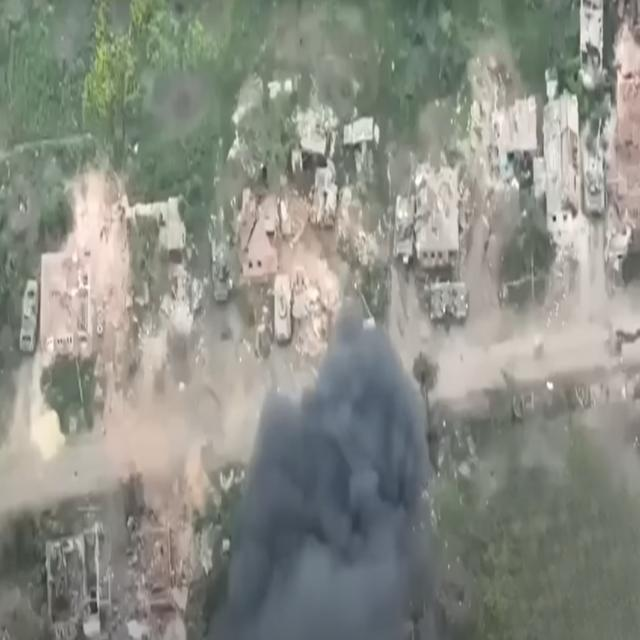AIFV: (273, 273, 293, 348)
APC: (20, 280, 41, 358)
MBT: (393, 163, 418, 266), (583, 118, 608, 220), (414, 281, 471, 325), (213, 217, 236, 308)
